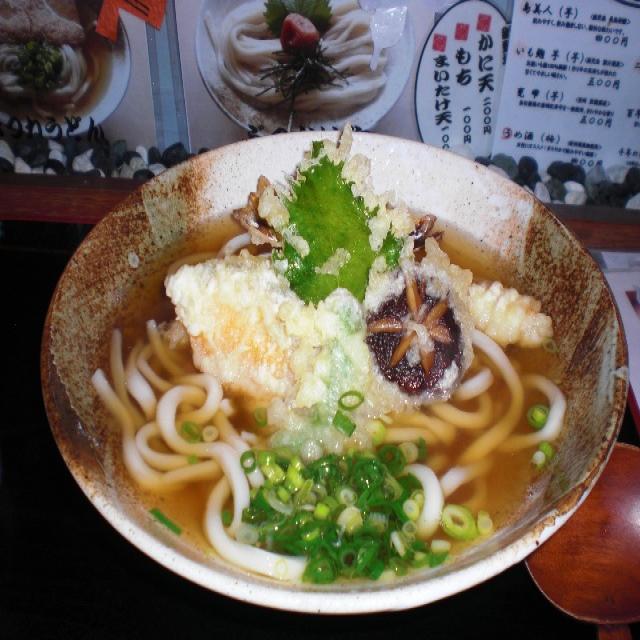面条主食: (96, 173, 577, 571)
